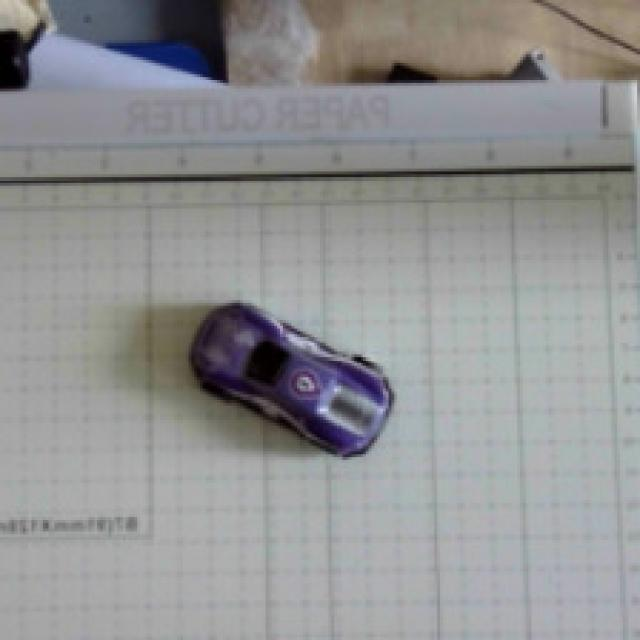Purple Car: (153, 250, 434, 495)
